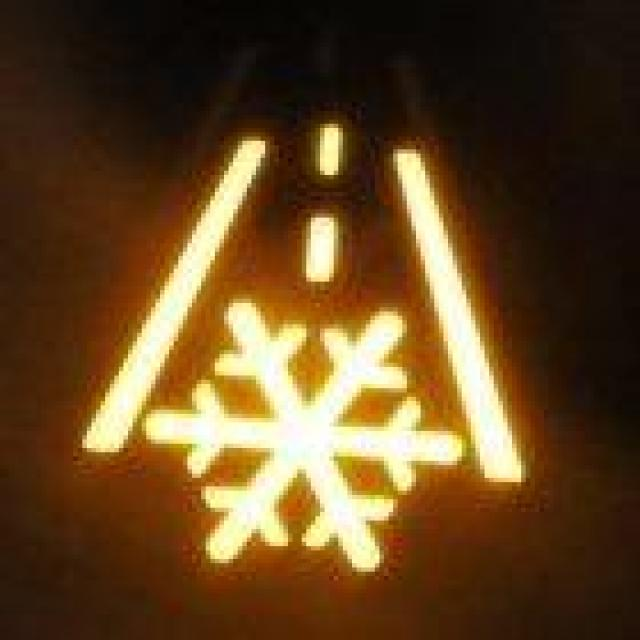kontrolka: (59, 99, 546, 534)
